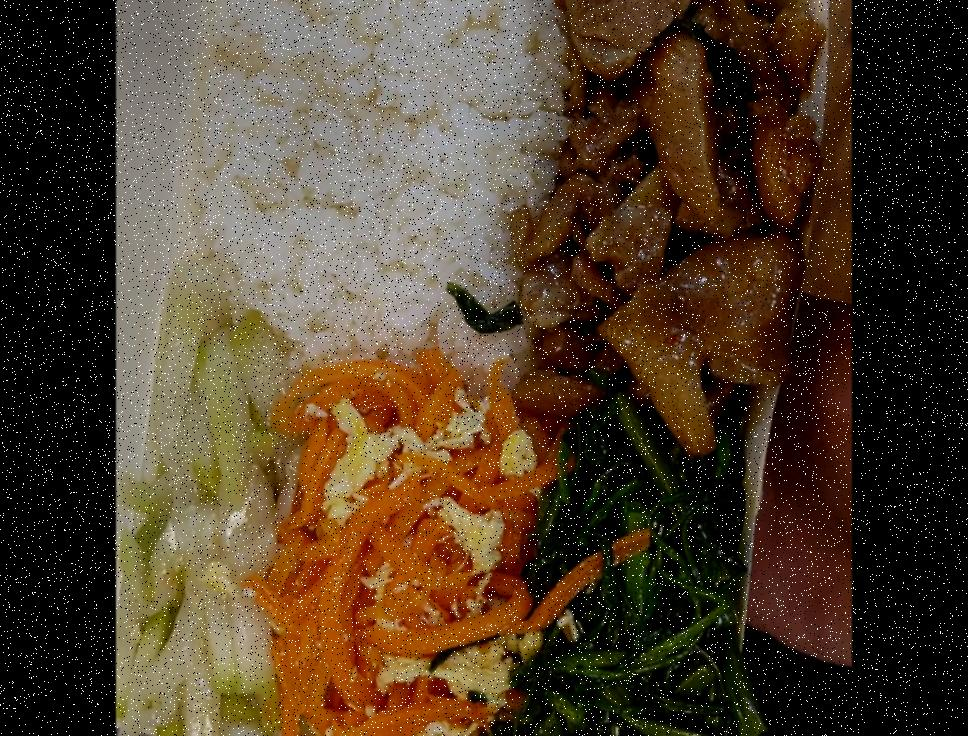box: (164, 0, 844, 736)
side dish: (293, 359, 539, 736), (513, 407, 735, 736), (128, 314, 286, 736)
three cup chicken: (535, 0, 819, 425)
white rice: (183, 0, 561, 387)
